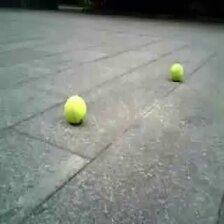tennis: (63, 94, 85, 121), (169, 62, 185, 78)
